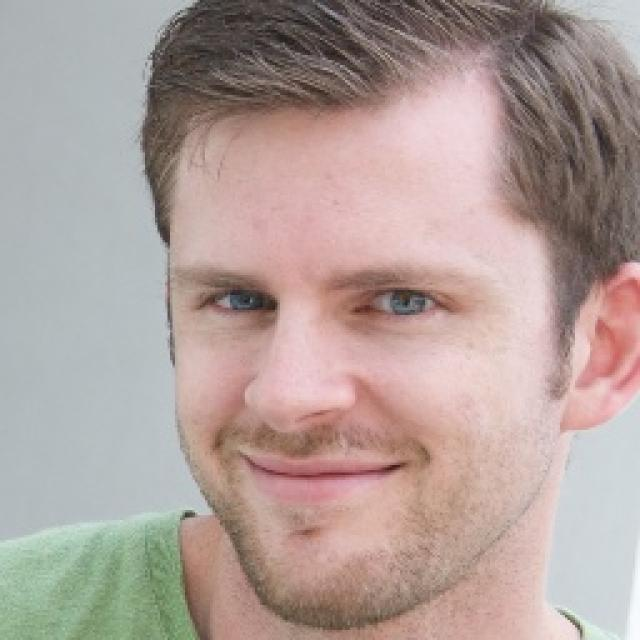earlobe: (559, 383, 599, 433)
eye: (352, 285, 442, 316), (203, 288, 276, 315)
nose: (246, 399, 361, 478)
wholeear: (557, 260, 640, 430)
